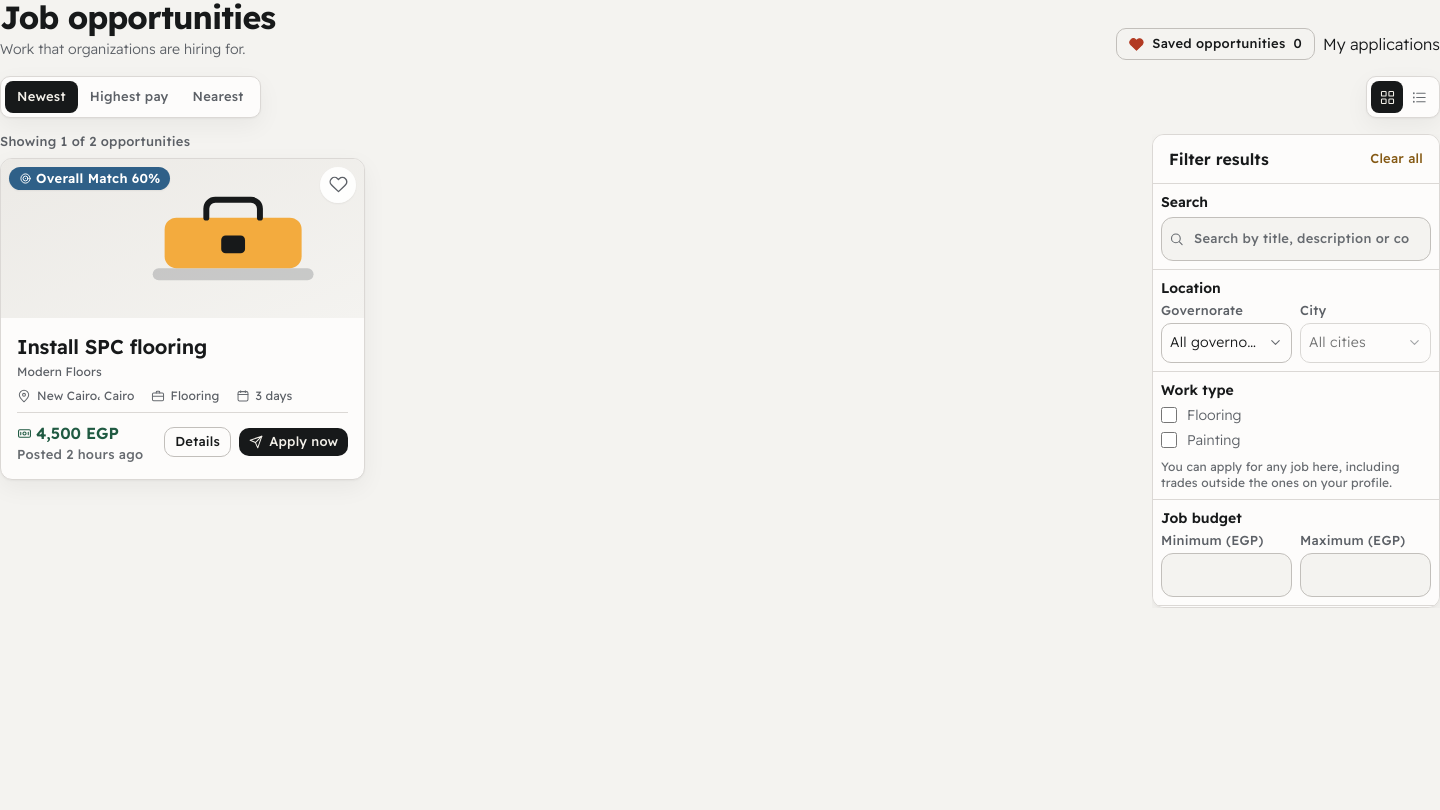
Test: production Jobs board — one approved presentation, only real capabilities › Overall Match — the canonical database breakdown, drawn and never recomputed › 60% is named 'Good match' in its breakdown
Click the button with test id "match-badge": (90, 179) 9,167 -> 170,190
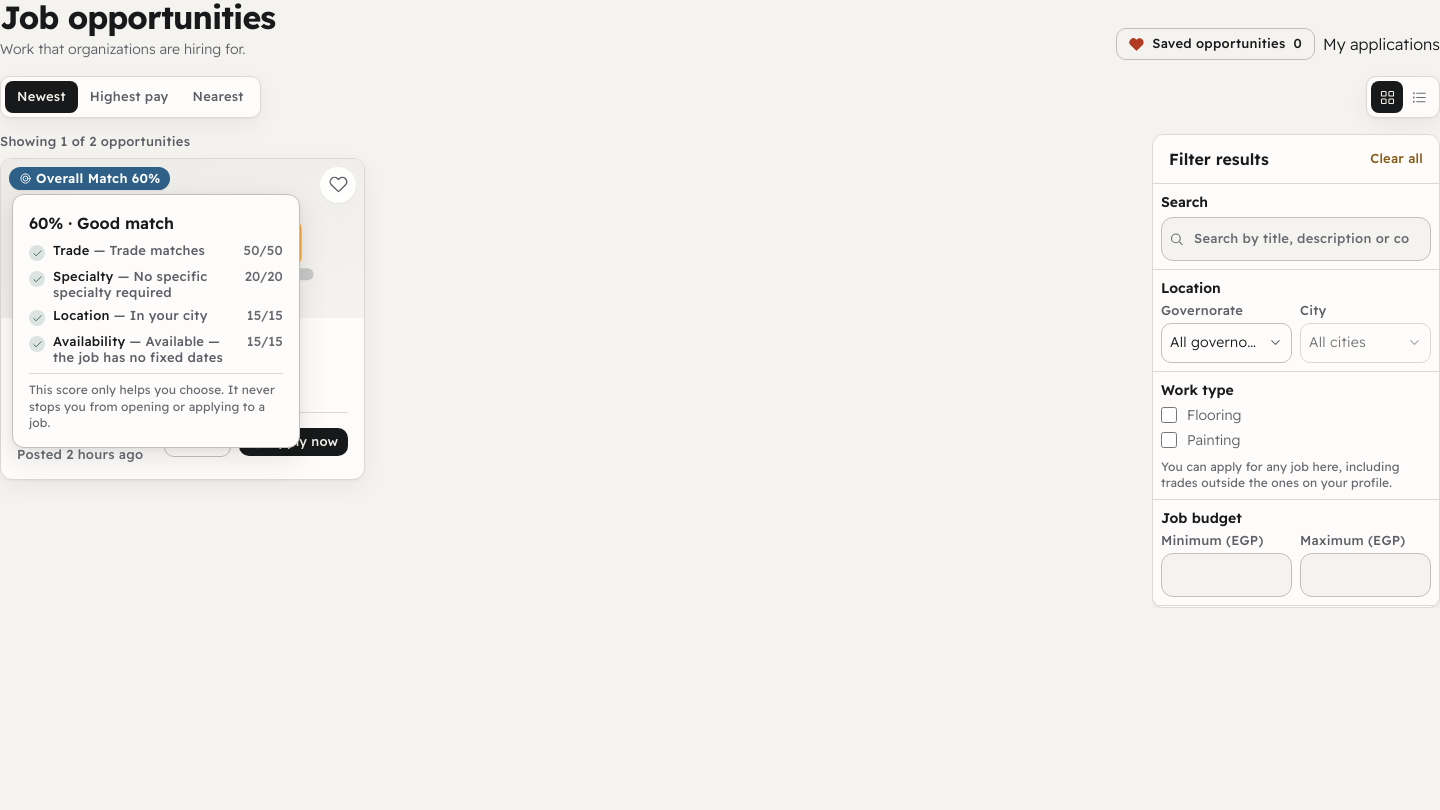
Now the text "60% · Good match" is shown, box 29,213 -> 174,233
